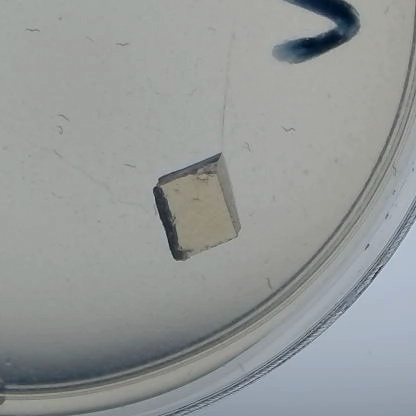worm: (23, 22, 43, 36), (278, 123, 298, 135), (263, 273, 275, 292), (241, 139, 256, 154), (379, 4, 395, 18), (184, 85, 200, 98), (118, 162, 138, 172), (55, 112, 73, 123), (50, 147, 63, 162), (48, 190, 65, 201), (53, 124, 67, 137), (114, 39, 129, 50), (201, 24, 220, 32), (84, 33, 95, 46)
